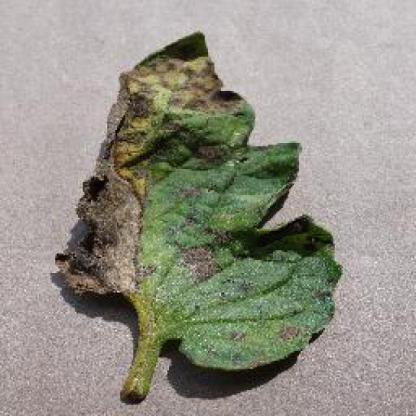Tomato_Blight: (57, 32, 339, 366)
